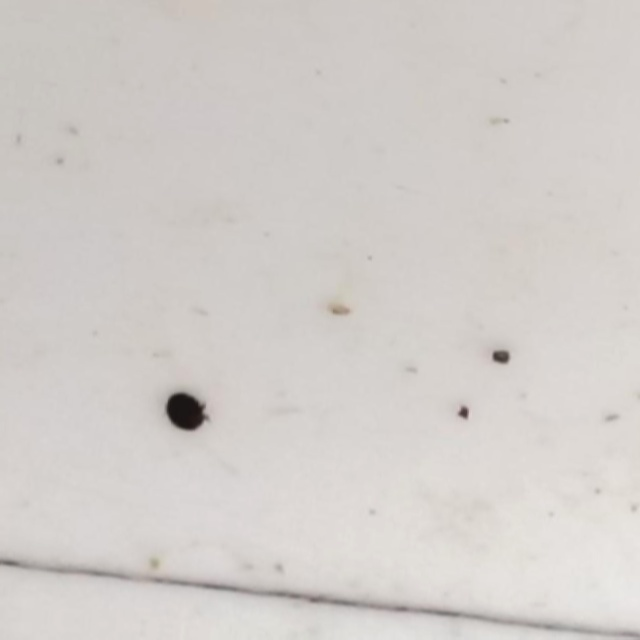varroa: (162, 392, 211, 438)
